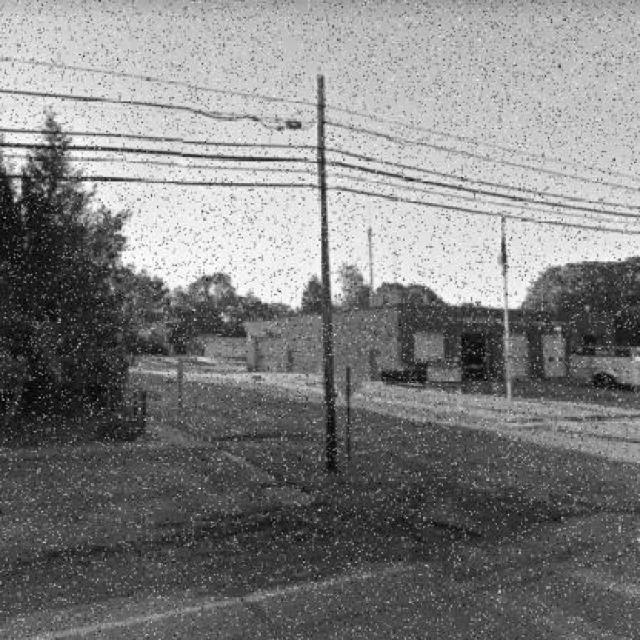pole: (318, 75, 335, 474)
wire: (0, 53, 640, 183), (1, 85, 640, 194), (0, 129, 640, 212), (1, 142, 640, 218), (0, 172, 640, 237)
